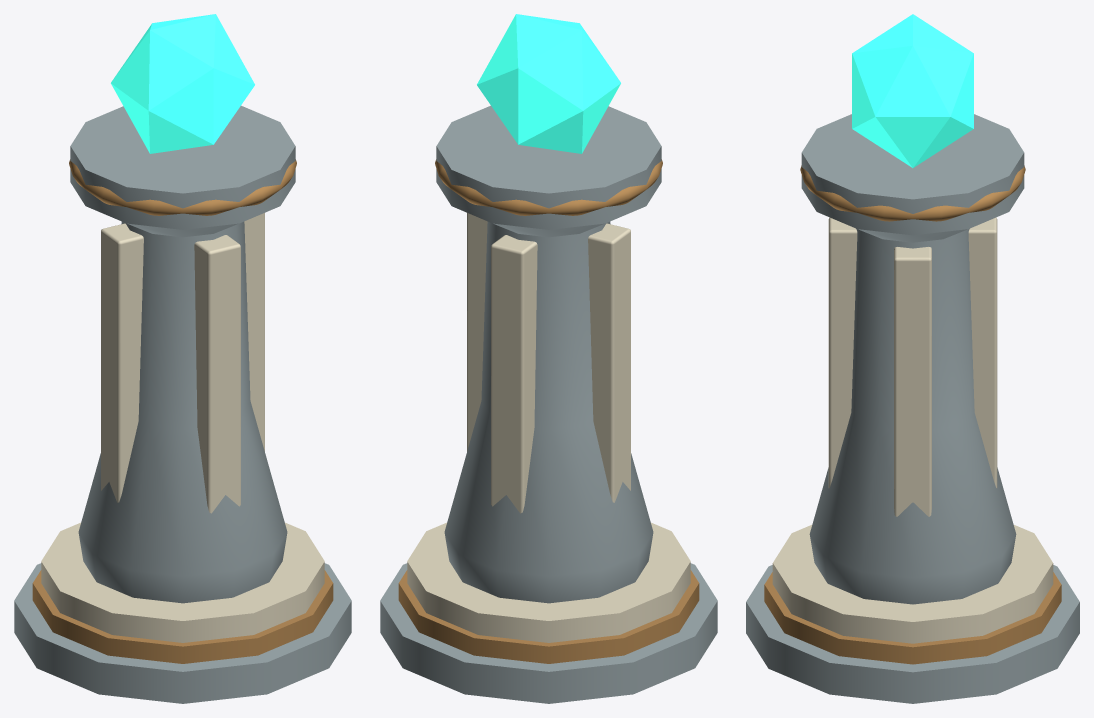
The model's file is tower-teal.glb.
3 renders of one model, left to right at view 1: azimuth 30°, elevation 25°; view 2: azimuth 150°, elevation 25°; view 3: azimuth 270°, elevation 25°, orthographic.
Visible parts, largest first — view 1: teal-tower; view 2: teal-tower; view 3: teal-tower.
Part boxes in pixels (bbox=[...]): teal-tower: bbox=[14, 14, 351, 703]; teal-tower: bbox=[380, 14, 717, 703]; teal-tower: bbox=[746, 14, 1079, 703].
Size of the model in its own units: 2.1 by 4.19 by 2.1.
